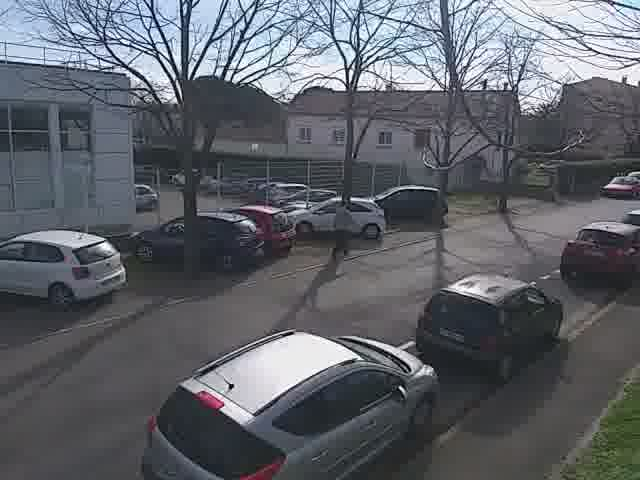persona: (326, 189, 356, 267)
